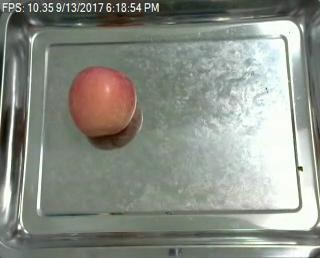apple: (69, 66, 136, 139)
